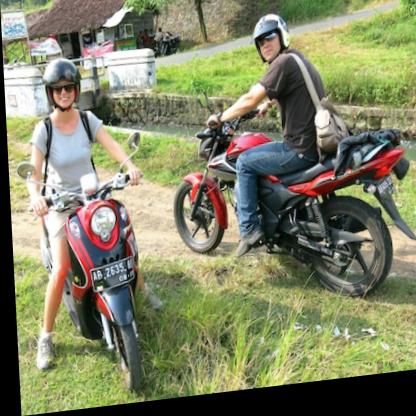With Helmet: (32, 53, 92, 116), (246, 10, 294, 76)
